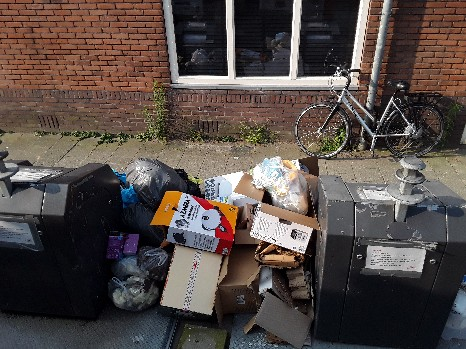Container: (321, 181, 459, 329), (11, 162, 107, 316)
Papier: (243, 261, 315, 337), (165, 198, 247, 253), (231, 165, 321, 215), (251, 200, 319, 262), (166, 254, 230, 312)
Rest: (106, 218, 146, 315), (122, 160, 198, 205)
